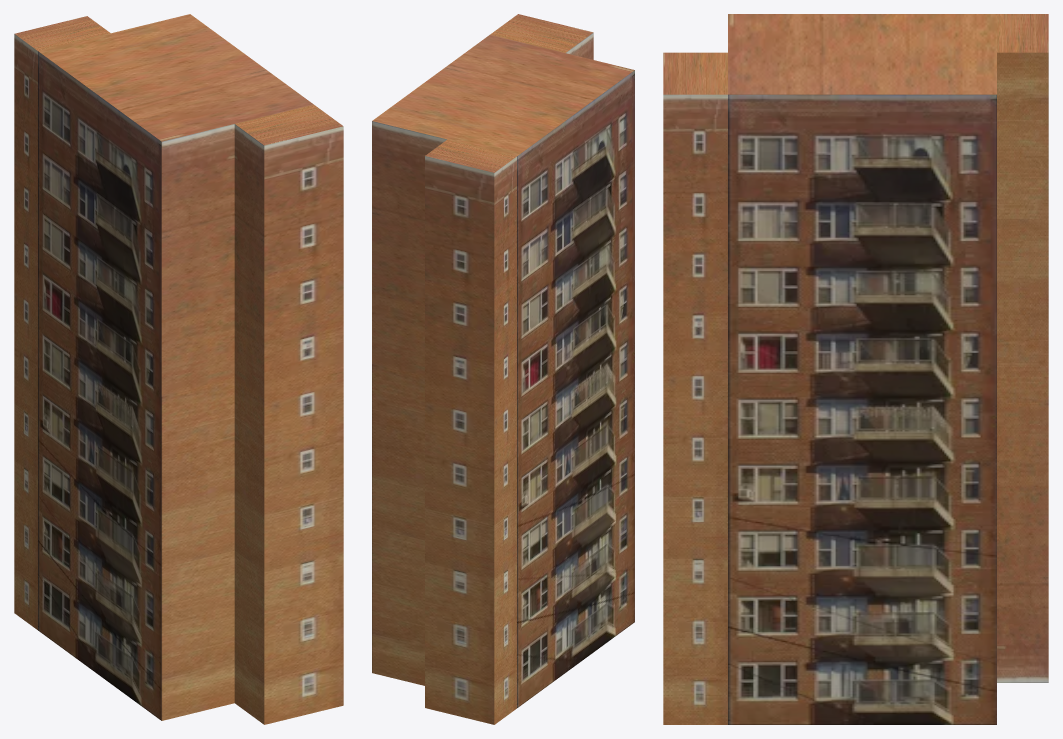
The model's file is sky4.glb.
3 renders of one model, left to right at view 1: azimuth 30°, elevation 25°; view 2: azimuth 150°, elevation 25°; view 3: azimuth 270°, elevation 25°, orthographic. The views are drawn at different scales.
Visible parts, largest first — view 1: sky4; view 2: sky4; view 3: sky4.
Boxes of the visible parts, x1,y1,x2,y2 form: sky4: (14, 14, 343, 724); sky4: (372, 14, 634, 724); sky4: (663, 14, 1048, 724).
Size of the model in its own units: 32.99 by 120 by 66.5.
Materials: 1 (1 with a texture image).
